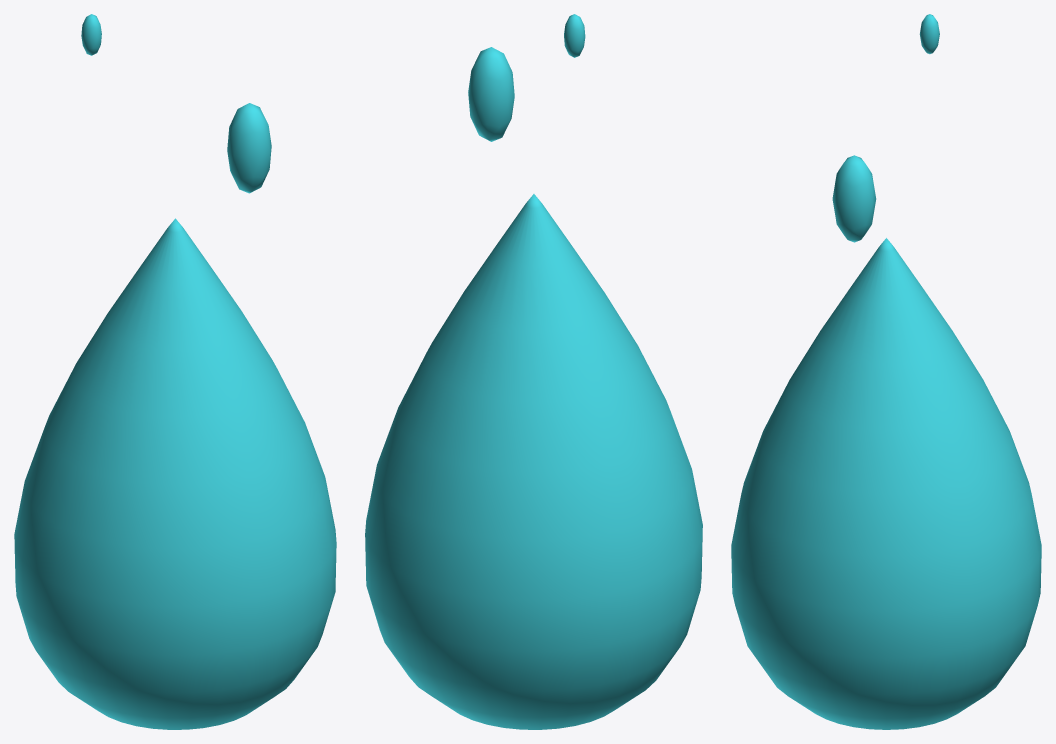
The model's file is Droplet.fbx.
The picture shows the model from 3 angles, left to right: view 1: azimuth 30°, elevation 25°; view 2: azimuth 150°, elevation 25°; view 3: azimuth 270°, elevation 25°; orthographic projection. The views are drawn at different scales.
Visible parts, largest first — view 1: Droplet; view 2: Droplet; view 3: Droplet.
Boxes of the visible parts, x1=… form: Droplet: x1=14, y1=14, x2=336, y2=729; Droplet: x1=365, y1=14, x2=702, y2=729; Droplet: x1=731, y1=14, x2=1041, y2=729.
Bounding box in the file's own units: 72.57 × 173 × 72.57.
